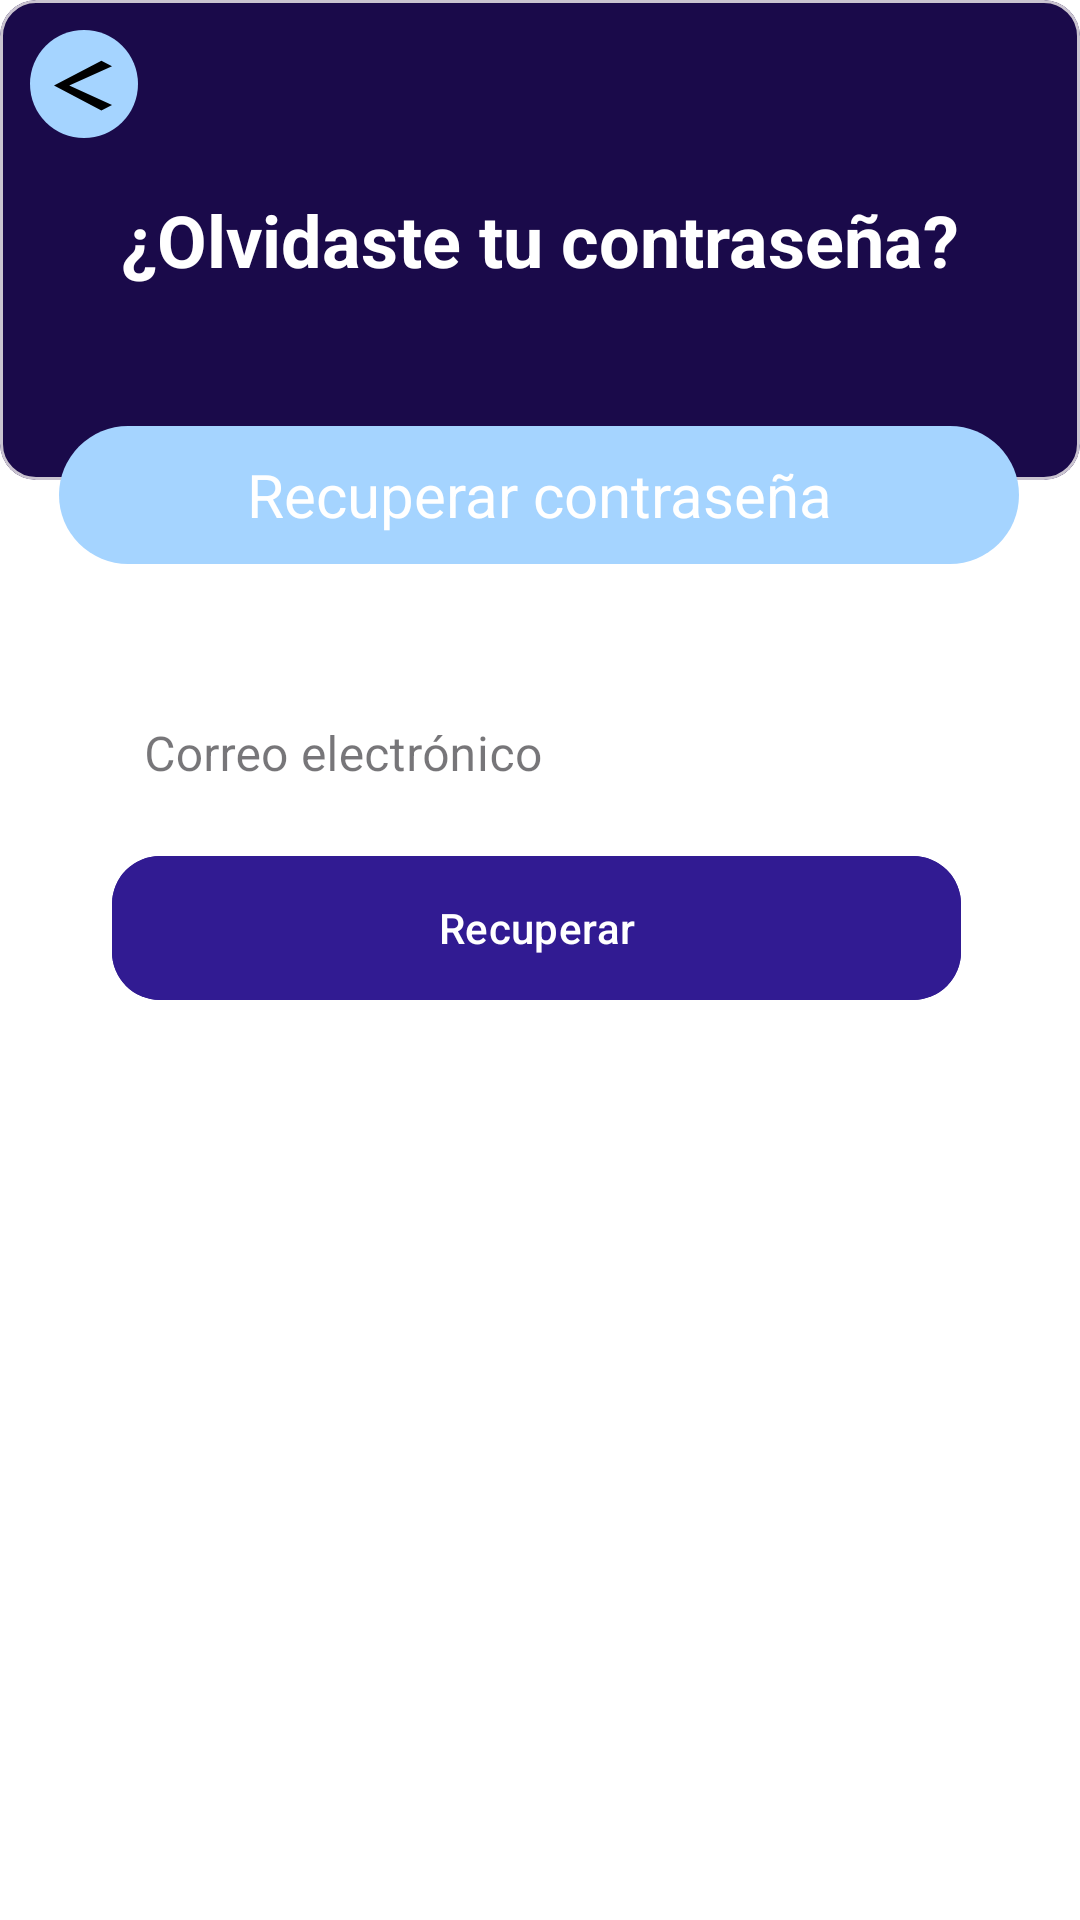

Screen size 1080 x 1920. Icon name, then its box in pixels as (x1, y1, x2, y2):
arrow back: (30, 30, 138, 138)
